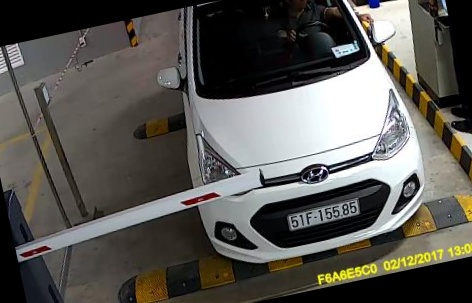plate: (285, 195, 360, 240)
